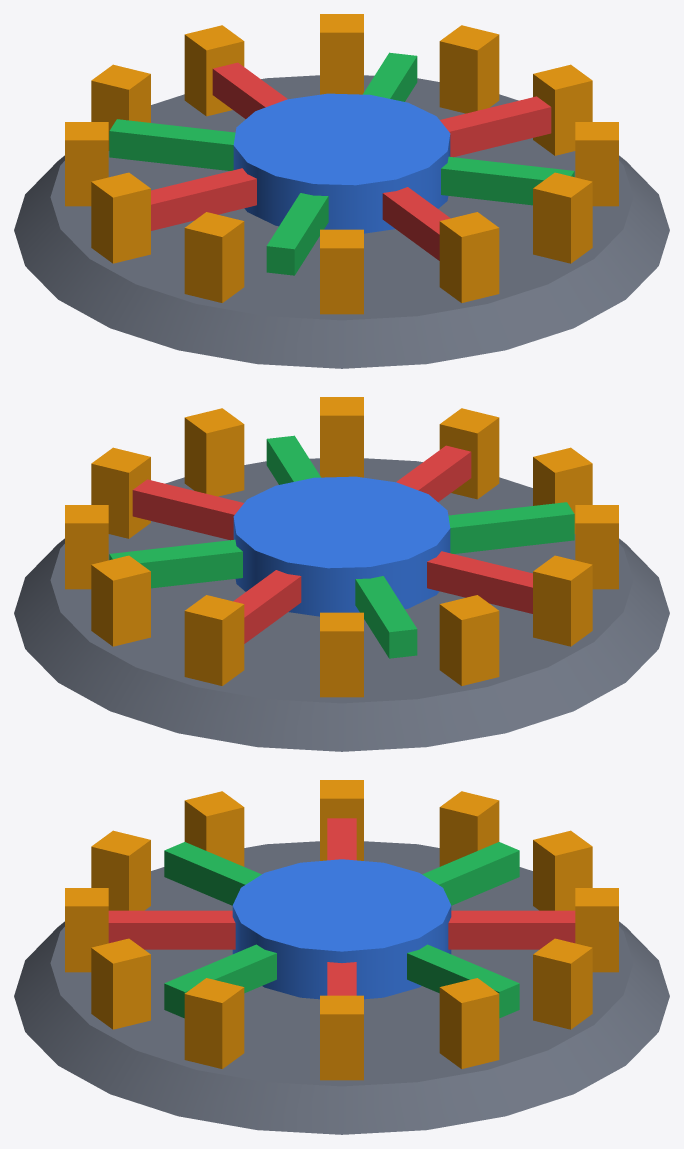
File: test-animated.glb
3 views of the same model, one above another, from view 1: azimuth 30°, elevation 25°; view 2: azimuth 150°, elevation 25°; view 3: azimuth 270°, elevation 25° (orthographic).
Visible parts, largest first — view 1: Pedestal, Hub, Spoke_5, Tooth_3, Tooth_5, Tooth_2, Tooth_6, Tooth_11, Spoke_4, Spoke_0, Spoke_1, Tooth_4 (+10 smaller); view 2: Pedestal, Hub, Spoke_3, Tooth_7, Tooth_9, Tooth_6, Tooth_10, Tooth_1, Spoke_4, Spoke_0, Spoke_7, Tooth_8 (+10 smaller); view 3: Pedestal, Hub, Tooth_1, Tooth_11, Spoke_2, Spoke_6, Tooth_2, Tooth_10, Tooth_4, Tooth_8, Tooth_0, Tooth_5 (+10 smaller).
Part boxes in pixels (left/top/right/bottom): Pedestal: left=14, top=75, right=669, bottom=368; Hub: left=233, top=93, right=450, bottom=233; Spoke_5: left=109, top=119, right=235, bottom=170; Tooth_3: left=439, top=212, right=499, bottom=302; Tooth_5: left=184, top=212, right=244, bottom=302; Tooth_2: left=533, top=172, right=592, bottom=263; Tooth_6: left=91, top=172, right=150, bottom=263; Tooth_11: left=439, top=25, right=499, bottom=113; Spoke_4: left=151, top=168, right=256, bottom=230; Spoke_0: left=440, top=96, right=551, bottom=157; Spoke_1: left=441, top=156, right=574, bottom=205; Tooth_4: left=320, top=229, right=363, bottom=314; Pedestal: left=14, top=458, right=669, bottom=751; Hub: left=233, top=476, right=450, bottom=616; Spoke_3: left=448, top=502, right=574, bottom=553; Tooth_7: left=439, top=595, right=499, bottom=685; Tooth_9: left=184, top=595, right=244, bottom=685; Tooth_6: left=533, top=555, right=592, bottom=646; Tooth_10: left=91, top=555, right=150, bottom=646; Tooth_1: left=184, top=408, right=244, bottom=496; Spoke_4: left=427, top=551, right=532, bottom=613; Spoke_0: left=132, top=479, right=243, bottom=540; Spoke_7: left=109, top=539, right=242, bottom=588; Tooth_8: left=320, top=612, right=363, bottom=697; Pedestal: left=14, top=841, right=669, bottom=1134; Hub: left=232, top=859, right=451, bottom=999; Tooth_1: left=184, top=978, right=244, bottom=1068; Tooth_11: left=439, top=978, right=499, bottom=1068; Spoke_2: left=108, top=910, right=235, bottom=949; Spoke_6: left=448, top=910, right=575, bottom=949; Tooth_2: left=91, top=938, right=150, bottom=1029; Tooth_10: left=533, top=938, right=592, bottom=1029; Tooth_4: left=91, top=830, right=150, bottom=910; Tooth_8: left=533, top=830, right=592, bottom=910; Tooth_0: left=320, top=995, right=363, bottom=1080; Tooth_5: left=184, top=791, right=244, bottom=866.
Size of the model in its own units: 1.8 by 0.3 by 1.8.
